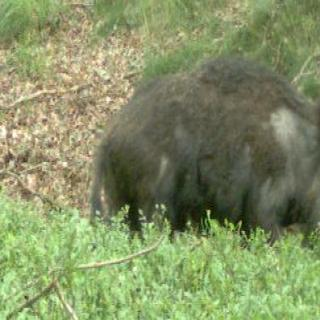Pig: (74, 24, 320, 266)
